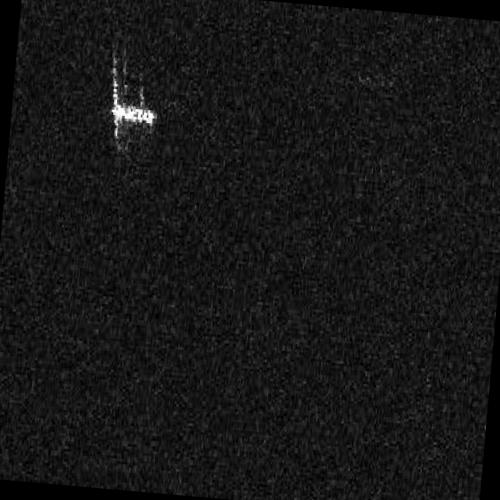ship: (109, 101, 157, 128)
